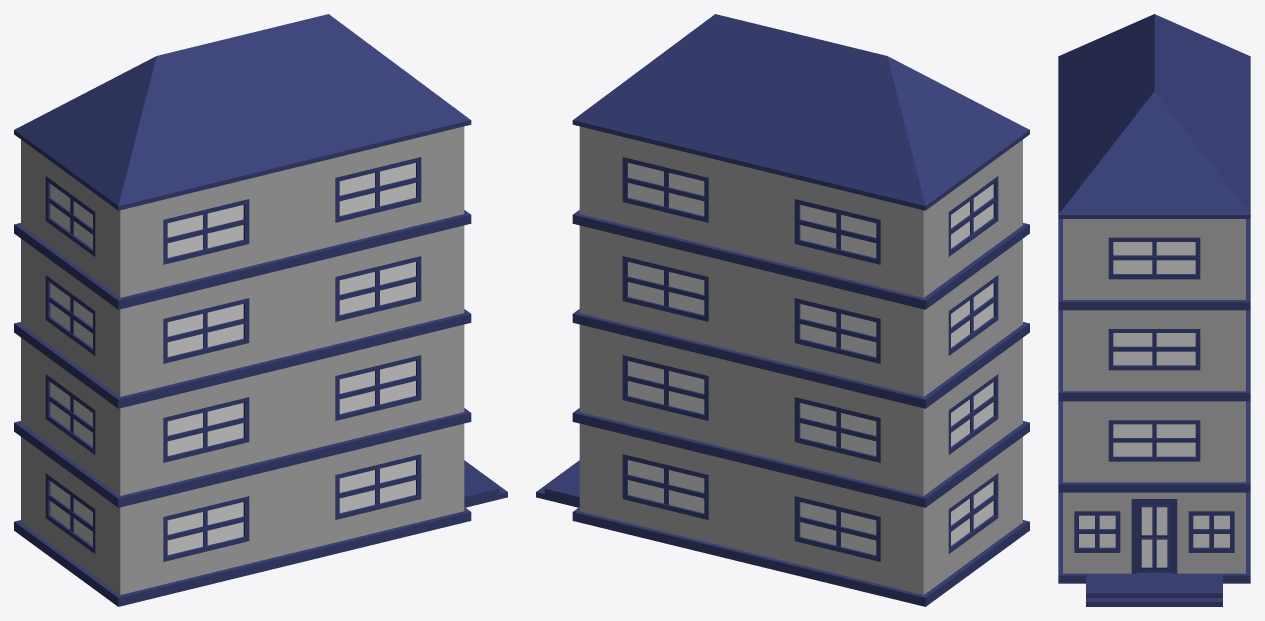
File: business building 15.fbx
The picture shows the model from 3 angles, left to right: view 1: azimuth 30°, elevation 25°; view 2: azimuth 150°, elevation 25°; view 3: azimuth 270°, elevation 25°; orthographic projection. The views are drawn at different scales.
Parts seen in each view (by area): view 1: building_001; view 2: building_001; view 3: building_001.
Part boxes in pixels (<box>): building_001: <box>14,14,507,606</box>; building_001: <box>536,14,1029,606</box>; building_001: <box>1058,14,1250,606</box>.
Size of the model in its own units: 940 by 1090 by 420.
